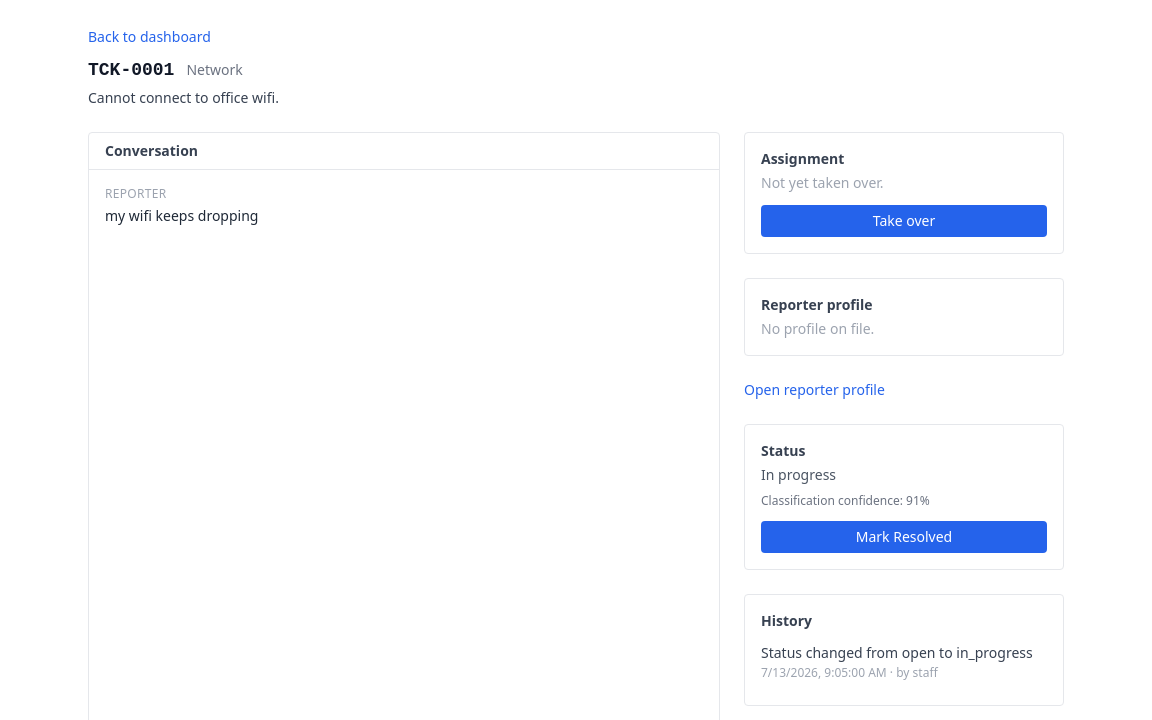
Test: TicketDetailPage › applies a status change through the API and reflects it
Expected: the heading "TCK-0001" is shown, [88,56,174,84]
Click the button "Mark Resolved" at (904, 537), box [761,521,1047,553]
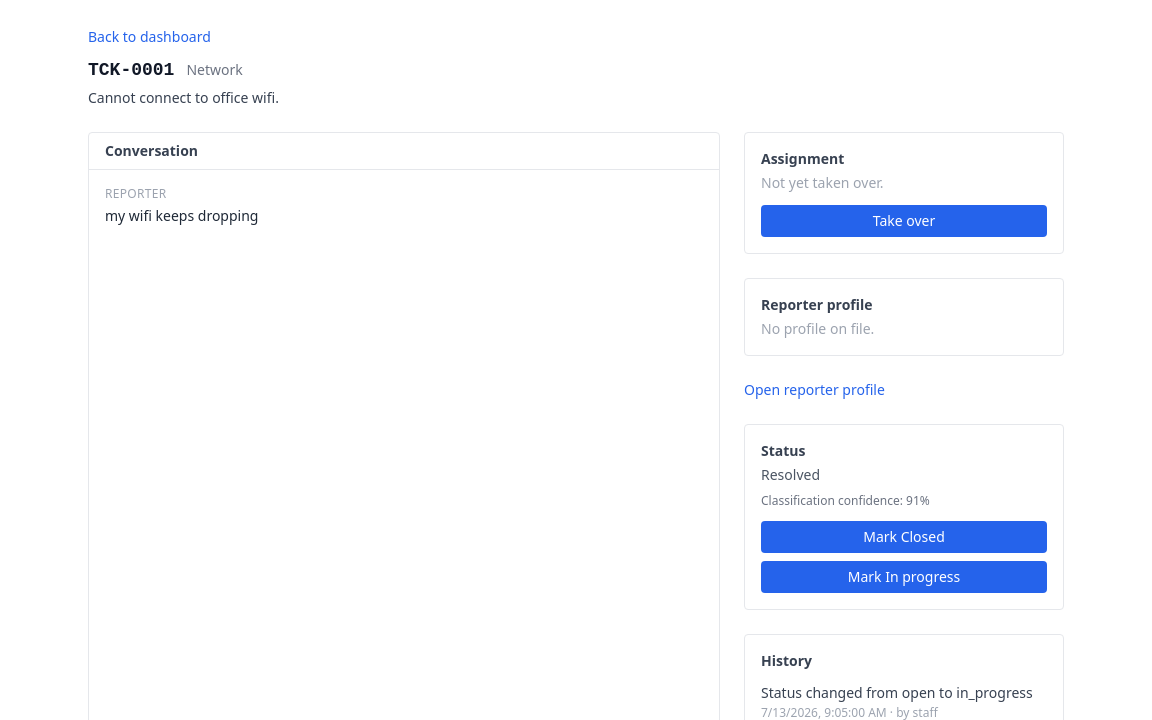
Expected: the text "Resolved" is shown, [761,465,820,484]
